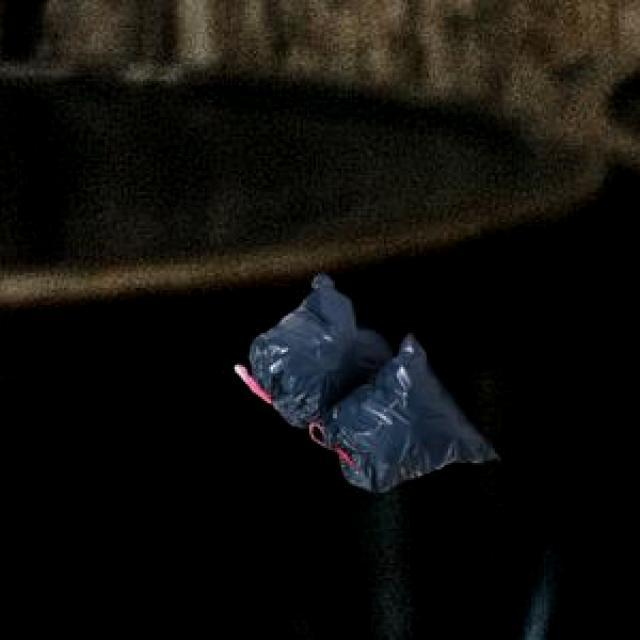Trashbag: (349, 358, 497, 502), (235, 270, 371, 409)
